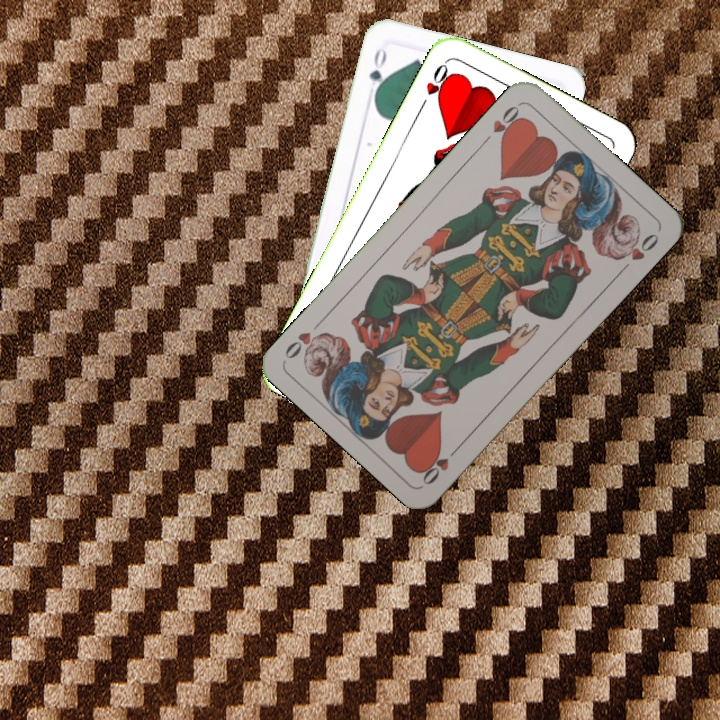GO: (365, 44, 390, 102)
HO: (478, 100, 526, 148), (417, 440, 464, 488), (415, 57, 456, 112)
